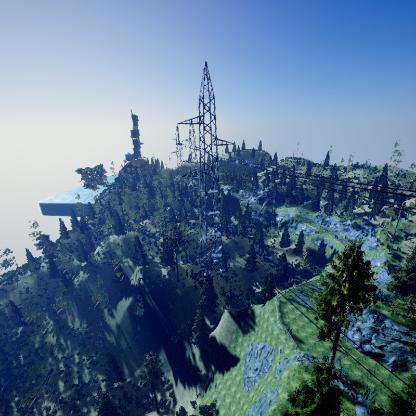tower: (173, 63, 240, 274)
